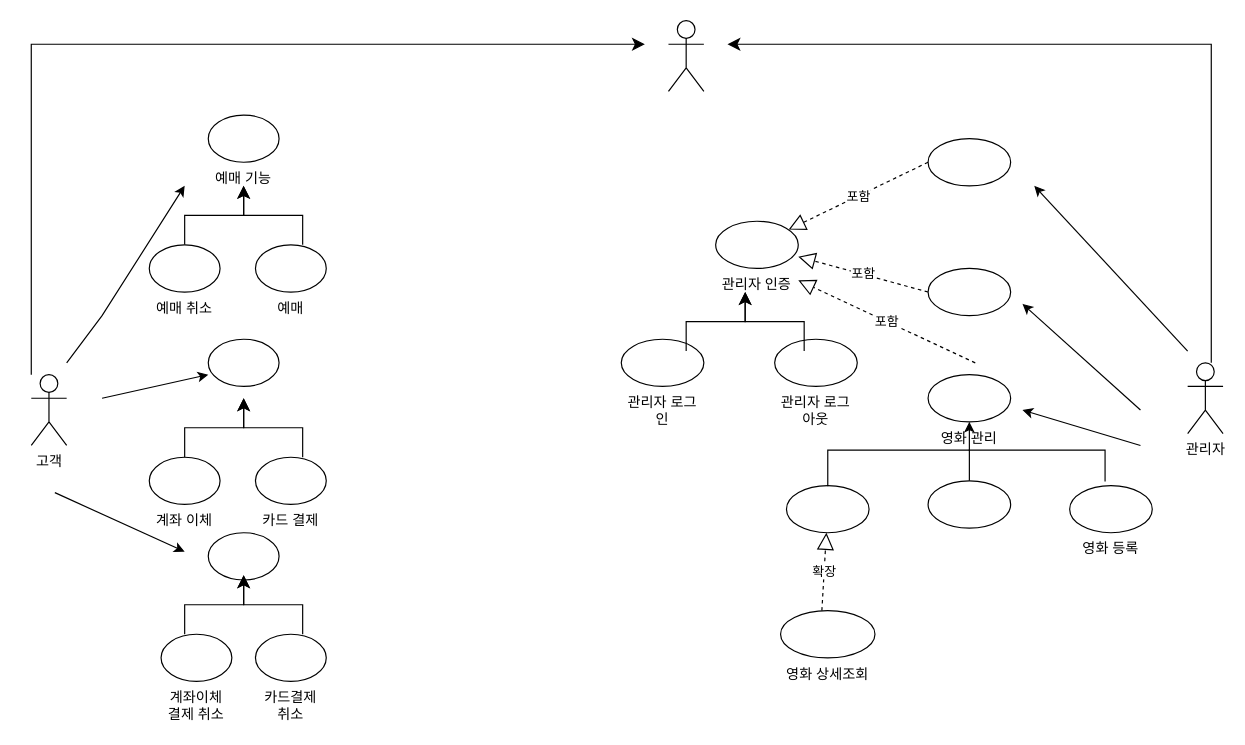
The diagram is 1245 pixels wide and 745 high, and some of its shapes have lost their labels. Each missing label, with the centre of its shape:
"결 제" belongs at point 243,362.
"결제 취소" belongs at point 243,556.
"사용자" belongs at point 685,55.
"상영관 등록" belongs at point 969,291.
"영화 검색" belongs at point 827,508.
"영화 수정" belongs at point 969,504.
"입금 목록관리" belongs at point 969,161.
